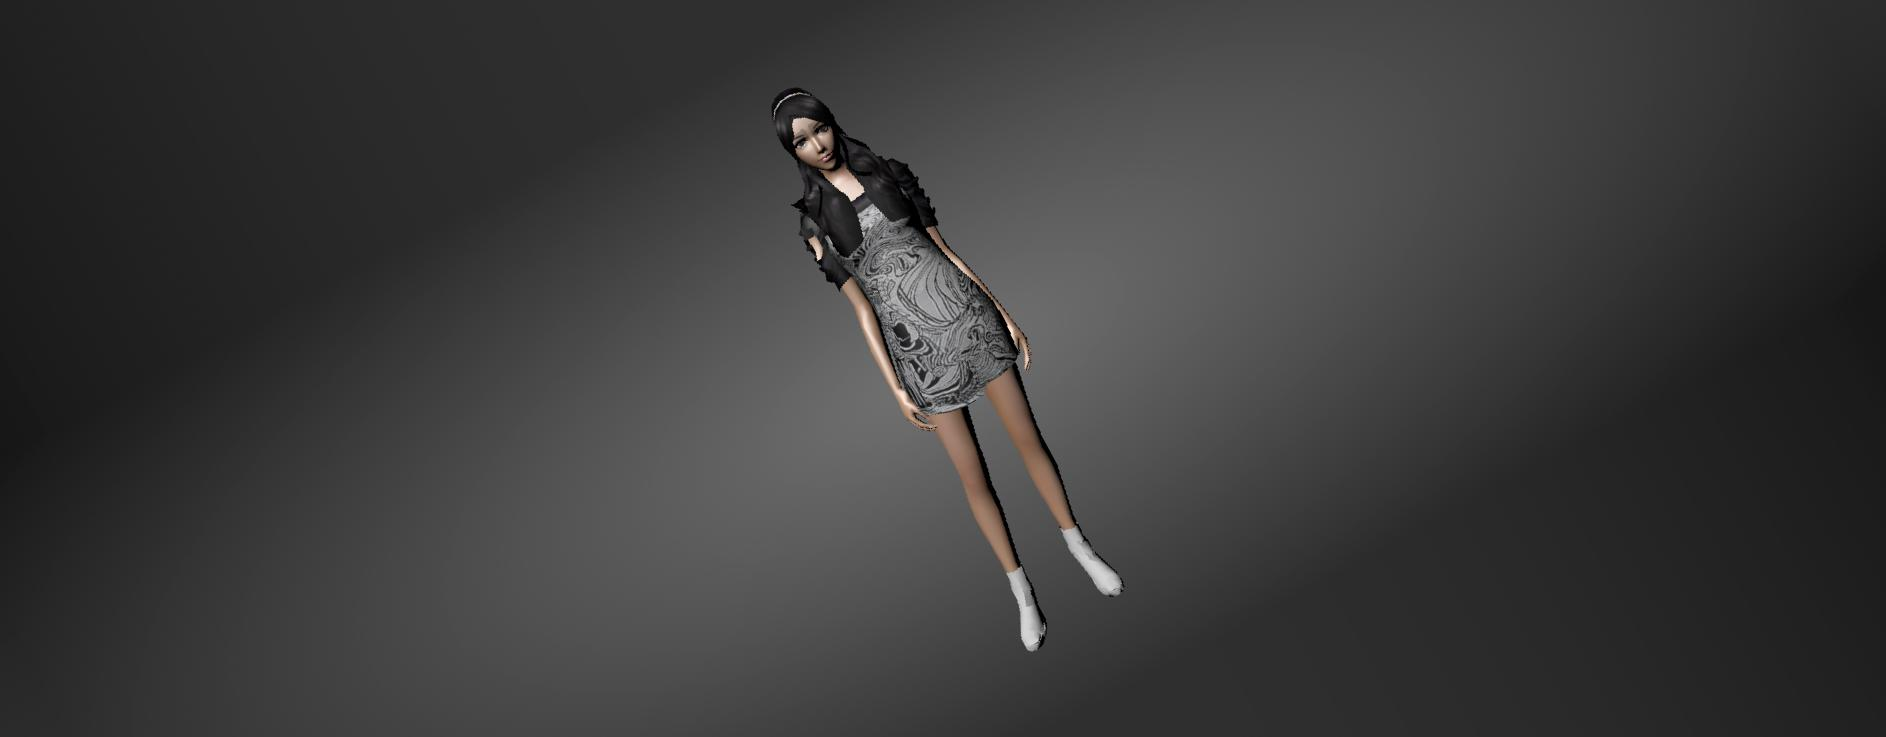clip: (803, 228, 828, 266)
